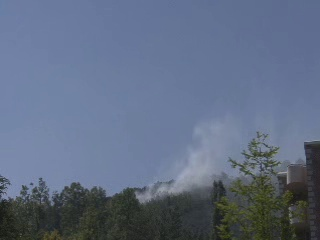smoke: (131, 120, 226, 205)
